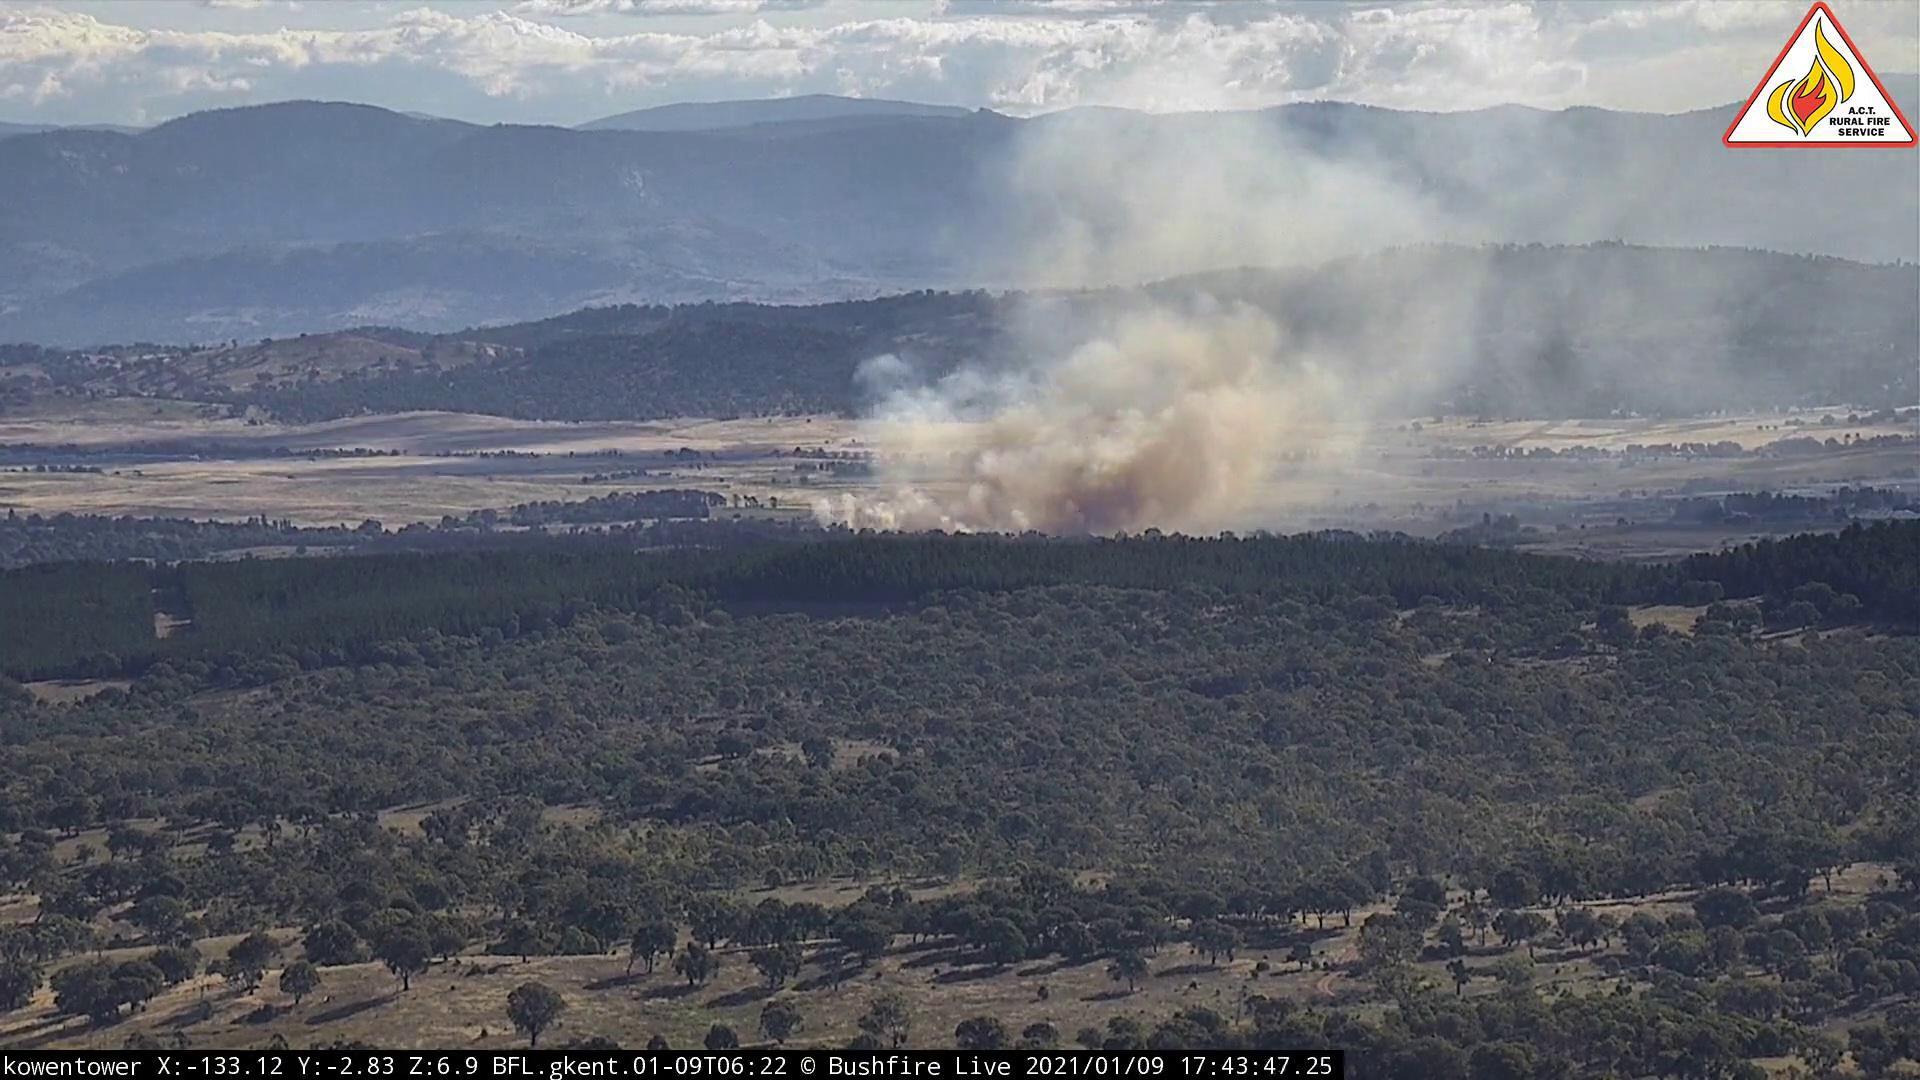Smoke: (787, 24, 1720, 545)
